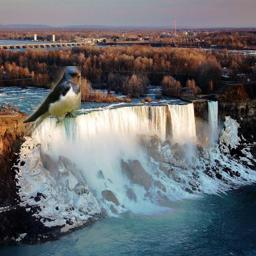Swallow: (12, 66, 81, 152)
